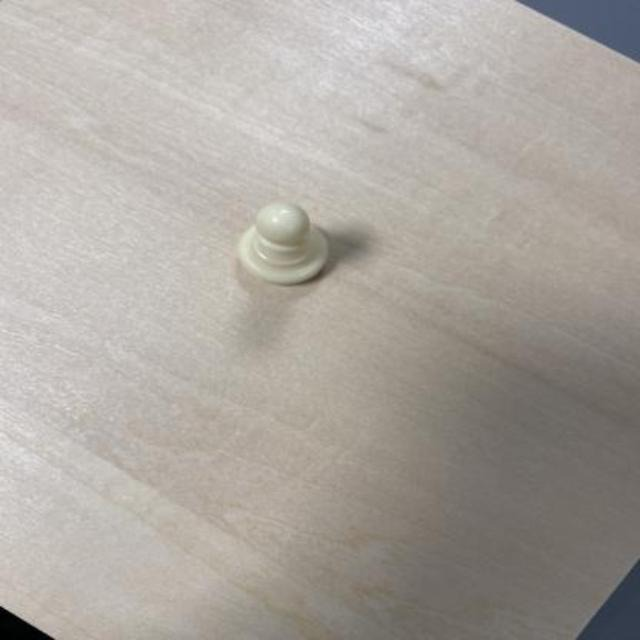white-pawn: (235, 201, 333, 285)
